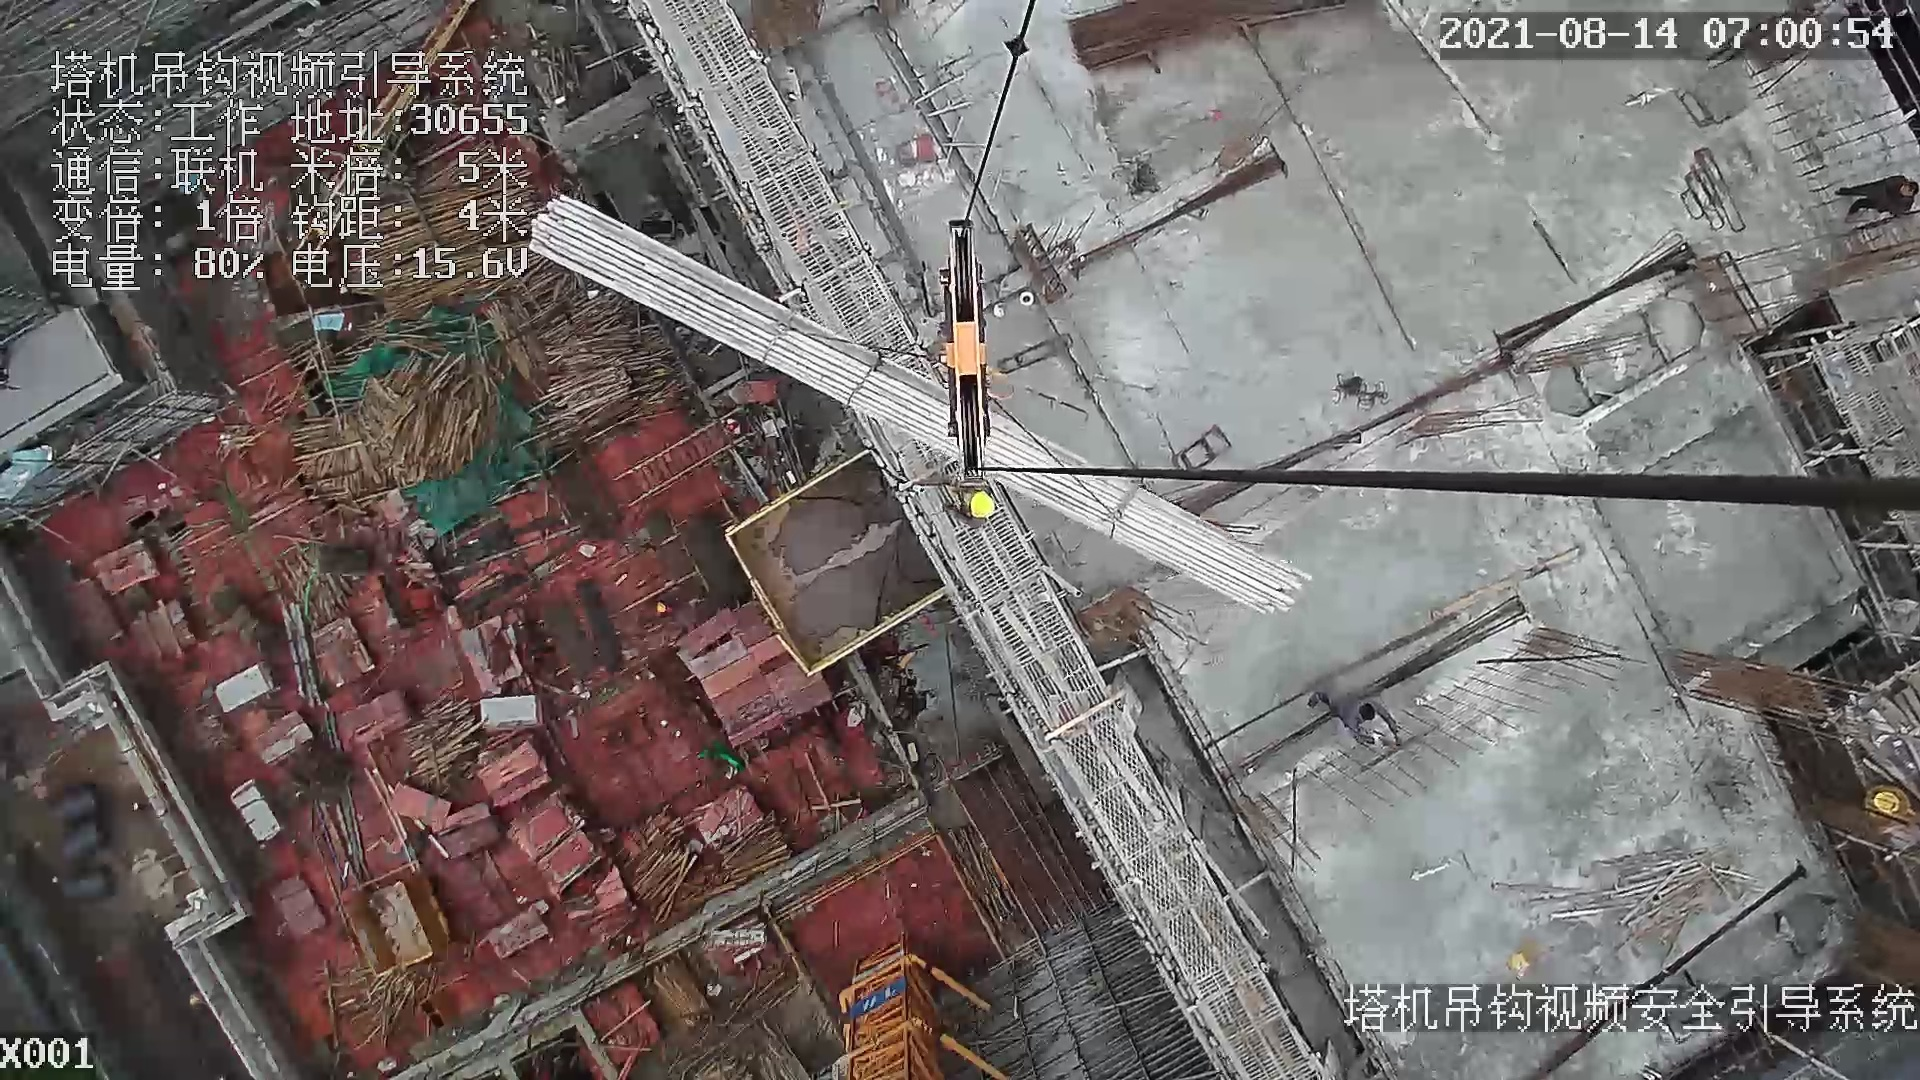helmet: (968, 489, 1005, 525)
hook: (924, 212, 1001, 478)
person: (1308, 683, 1409, 753), (946, 491, 1015, 524)
